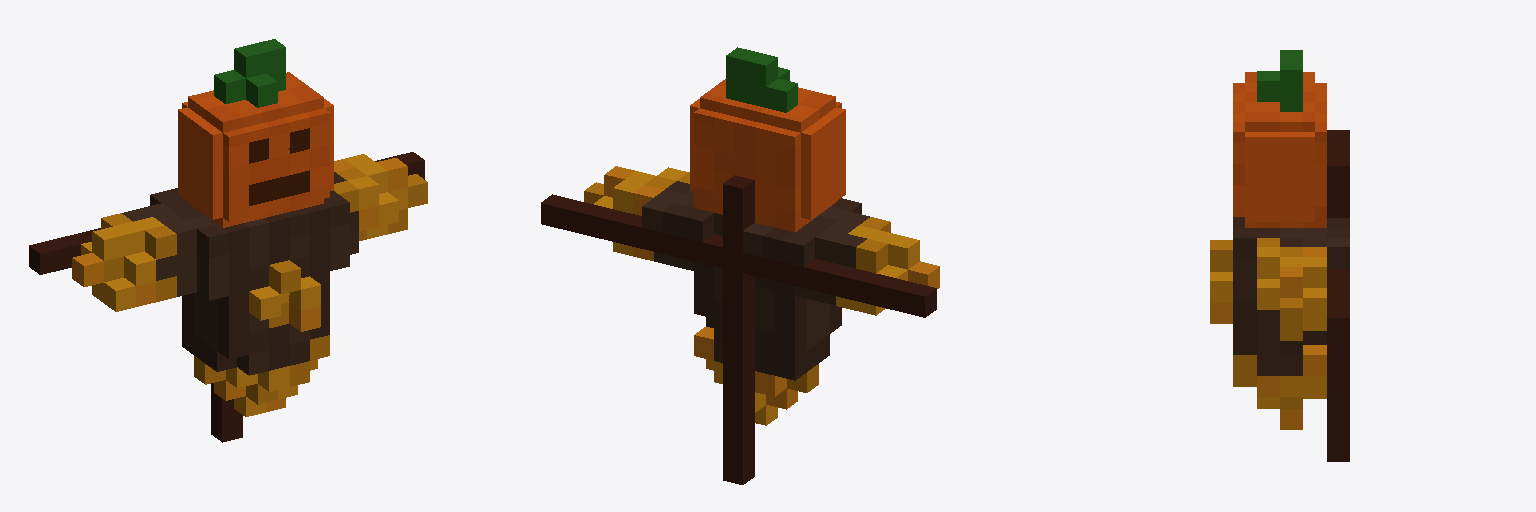
3 views of the same model, side by side, from view 1: azimuth 30°, elevation 25°; view 2: azimuth 150°, elevation 25°; view 3: azimuth 270°, elevation 25° (orthographic).
Parts seen in each view (by area): view 1: carrot_1; view 2: carrot_1; view 3: carrot_1.
Part boxes in pixels (x1,y1,x2,y2): carrot_1: (29, 39, 427, 442); carrot_1: (541, 47, 939, 484); carrot_1: (1210, 50, 1349, 461).
Bounding box in the file's own units: 3.8 × 3.8 × 1.2.
1 materials, 1 textured.